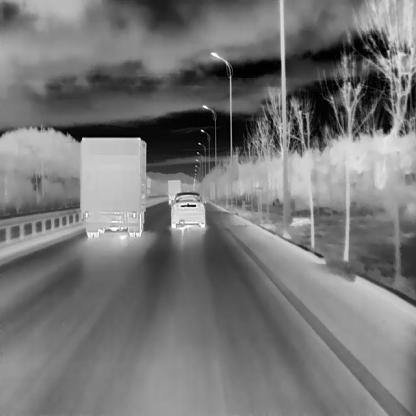car: (170, 190, 206, 228)
truck: (79, 136, 150, 236), (167, 178, 180, 204)
